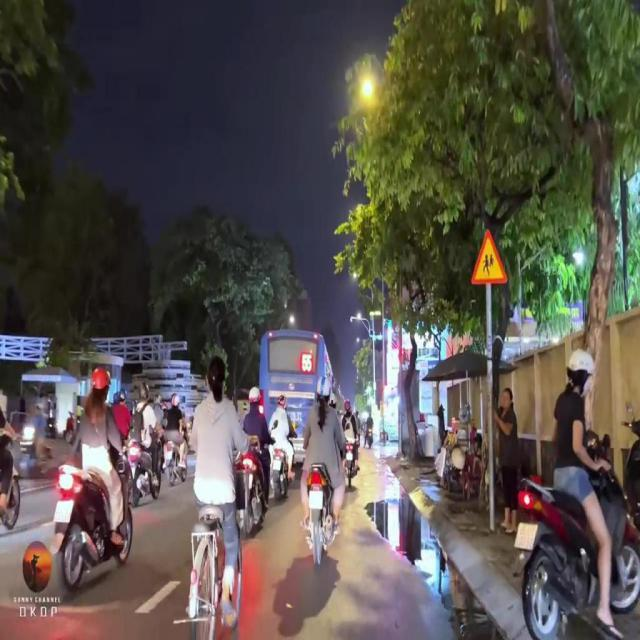225-chu-y-tre-em: (469, 228, 509, 284)
